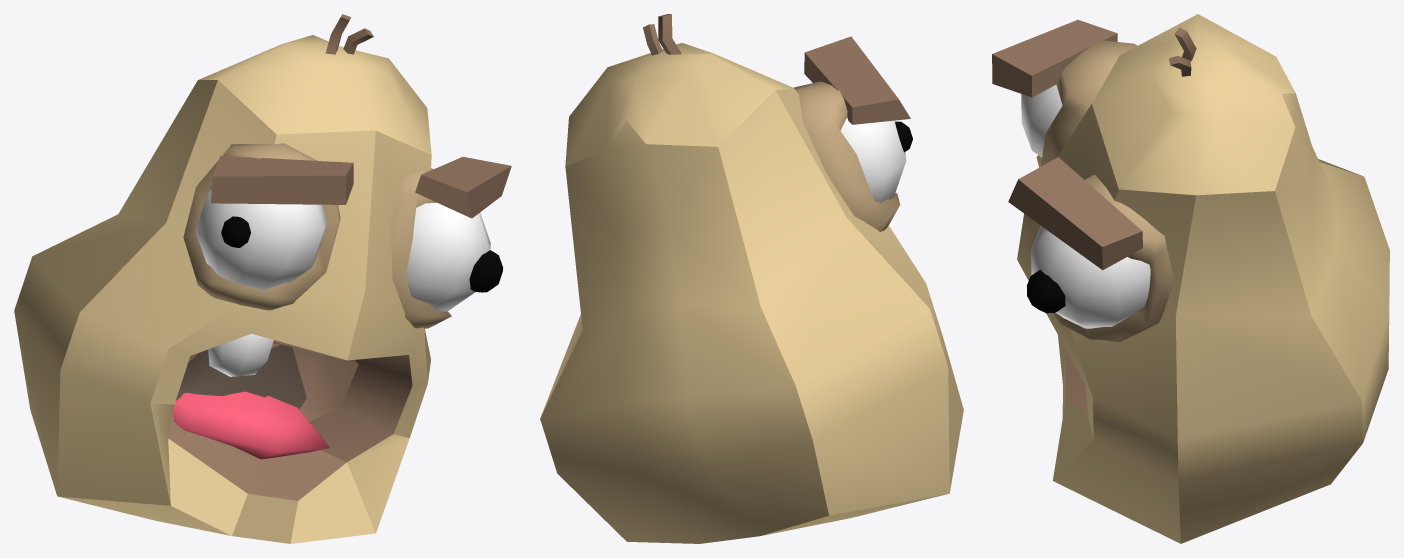
The model's file is fafate_test3.fbx.
3 renders of one model, left to right at view 1: azimuth 30°, elevation 25°; view 2: azimuth 150°, elevation 25°; view 3: azimuth 270°, elevation 25°, orthographic.
Parts seen in each view (by area): view 1: Box001; view 2: Box001; view 3: Box001.
Boxes of the visible parts, x1=… form: Box001: x1=14, y1=14, x2=511, y2=543; Box001: x1=540, y1=14, x2=963, y2=543; Box001: x1=992, y1=14, x2=1389, y2=543.
Size of the model in its own units: 85.97 by 71 by 102.
